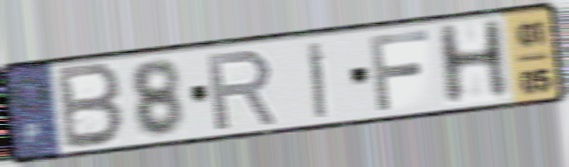8: (127, 56, 188, 139)
B: (56, 60, 127, 153)
F: (365, 27, 433, 114)
H: (432, 16, 513, 109)
I: (305, 39, 330, 122)
R: (203, 47, 281, 133)
